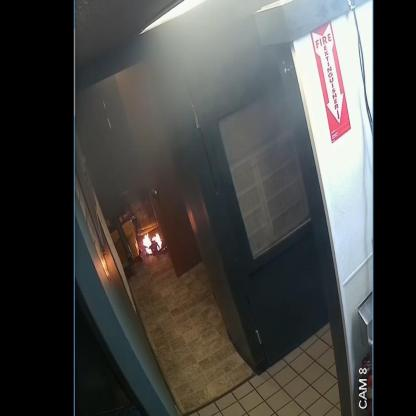fire: (143, 233, 162, 254)
